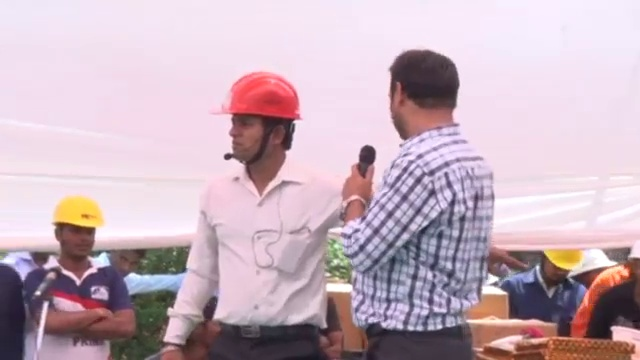helmet: (205, 73, 305, 125), (48, 194, 104, 235), (543, 245, 585, 270)
helmet_off: (378, 51, 472, 141), (108, 248, 145, 281)
helmet_on: (205, 71, 305, 186), (47, 203, 103, 270), (537, 244, 586, 285)
person: (154, 74, 344, 360), (338, 46, 495, 360), (20, 189, 135, 360), (500, 245, 588, 320), (592, 247, 640, 339), (105, 248, 183, 303)
